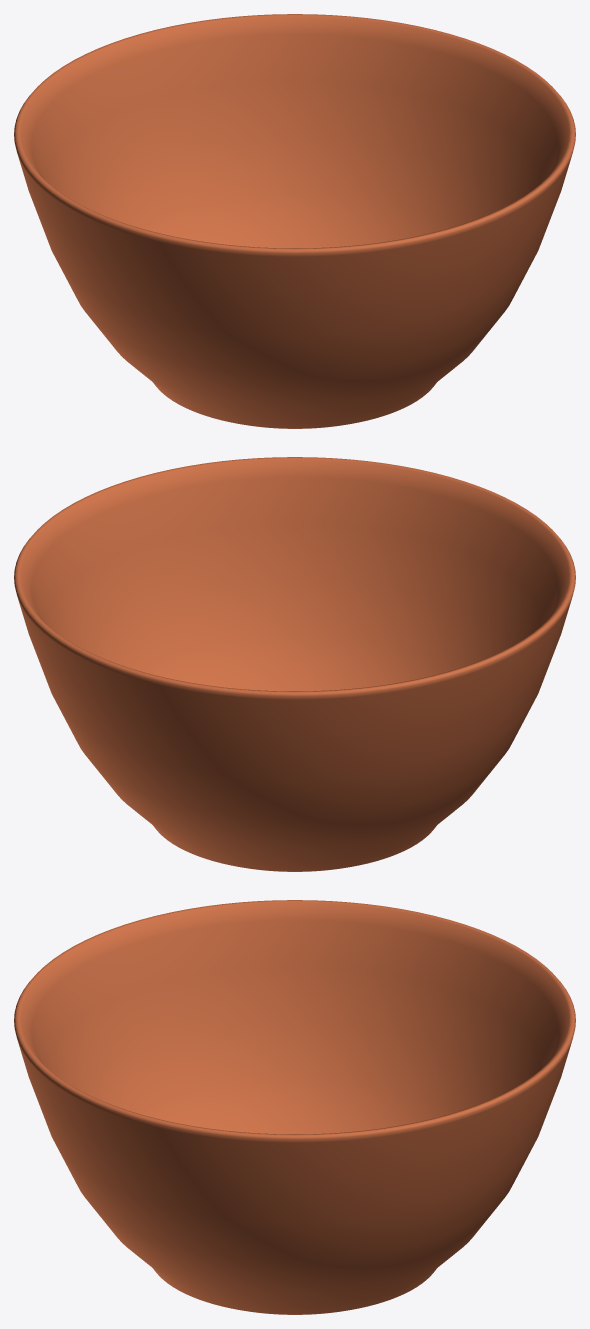
Rendered from bowl-mediano-15cm.glb.
3 views of the same model, one above another, from view 1: azimuth 30°, elevation 25°; view 2: azimuth 150°, elevation 25°; view 3: azimuth 270°, elevation 25° (orthographic).
Parts seen in each view (by area): view 1: bowl-mediano-15cm; view 2: bowl-mediano-15cm; view 3: bowl-mediano-15cm.
Part boxes in pixels (x1,y1,x2,y2): bowl-mediano-15cm: [14, 14, 575, 428]; bowl-mediano-15cm: [14, 457, 575, 871]; bowl-mediano-15cm: [14, 900, 575, 1314].
Bounding box in the file's own units: 0.1496 × 0.07 × 0.1496.
